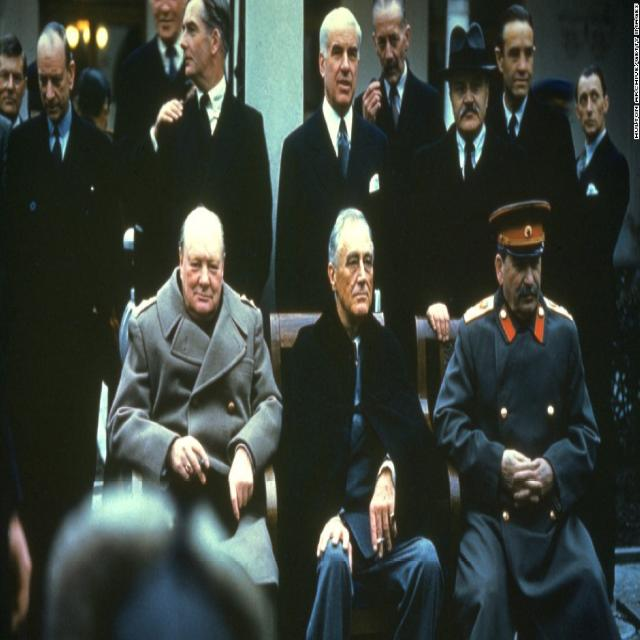body: (428, 191, 628, 639), (0, 18, 124, 639), (281, 204, 447, 639), (104, 203, 284, 523), (353, 0, 450, 442), (148, 0, 275, 310), (409, 22, 531, 344), (275, 5, 398, 315), (563, 61, 631, 602), (482, 1, 583, 348), (116, 0, 197, 306), (0, 23, 117, 159), (0, 451, 39, 639)
